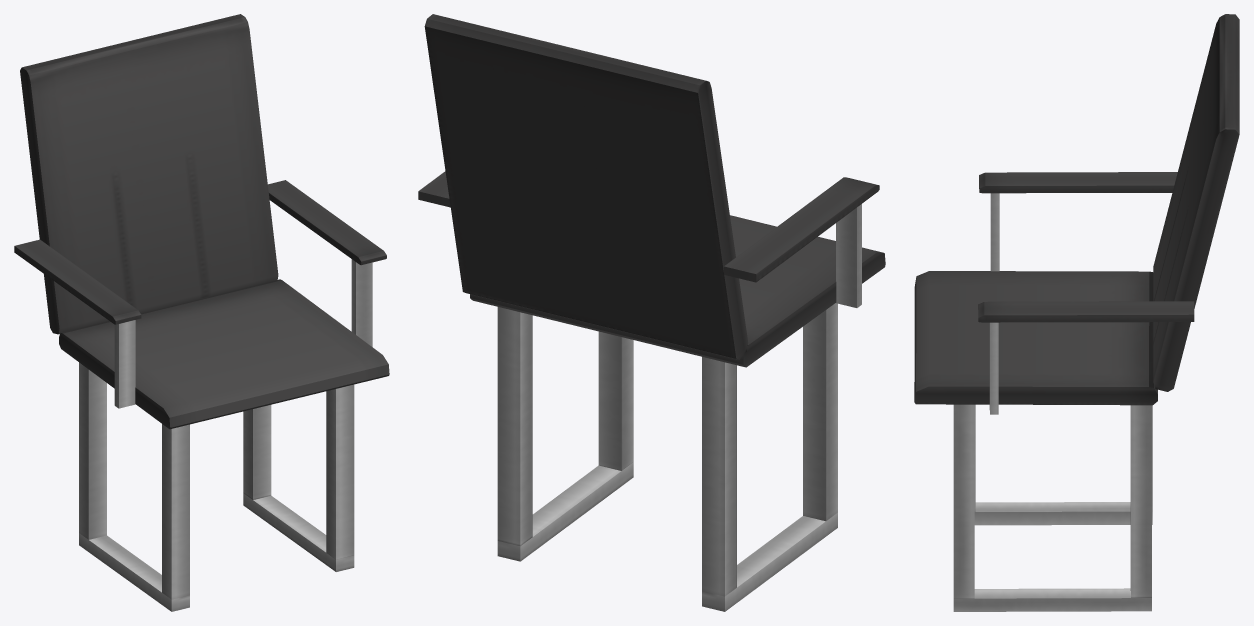
File: Vip-Chair_01.FBX
3 renders of one model, left to right at view 1: azimuth 30°, elevation 25°; view 2: azimuth 150°, elevation 25°; view 3: azimuth 270°, elevation 25°, orthographic. The views are drawn at different scales.
Parts seen in each view (by area): view 1: VIP-Chair_01; view 2: VIP-Chair_01; view 3: VIP-Chair_01.
Part boxes in pixels (<box>): VIP-Chair_01: <box>14,14,389,611</box>; VIP-Chair_01: <box>418,14,885,611</box>; VIP-Chair_01: <box>914,14,1239,611</box>.
Bounding box in the file's own units: 0.6366 × 1.02 × 0.6094.
